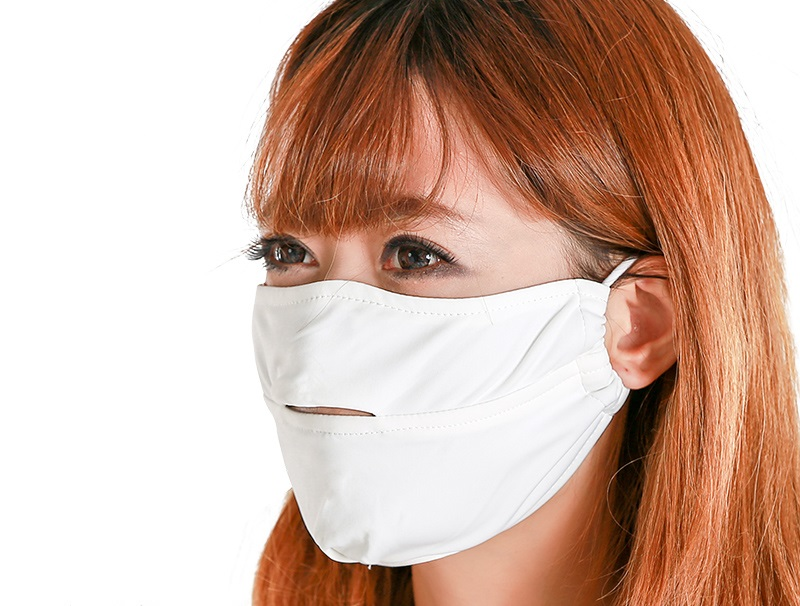face_mask: (241, 117, 585, 567)
